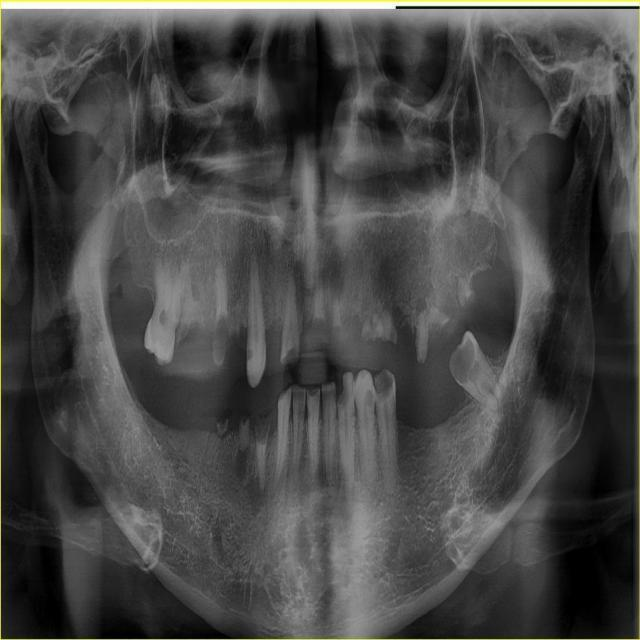Caries: (450, 332, 476, 385), (374, 367, 394, 408), (214, 314, 228, 362), (338, 373, 351, 409), (280, 346, 297, 367), (364, 385, 375, 407), (247, 345, 253, 366)
Missing teeth: (134, 374, 215, 431), (395, 369, 473, 428)
Periapical lesion: (244, 473, 271, 518), (234, 448, 248, 481)
Root Piece: (170, 259, 194, 348), (255, 415, 270, 491), (429, 303, 452, 339), (415, 308, 428, 363), (235, 298, 247, 348), (457, 275, 473, 310), (382, 306, 397, 342), (371, 299, 383, 340), (313, 274, 323, 322), (238, 418, 250, 451), (360, 317, 374, 340), (333, 294, 341, 329), (352, 300, 364, 321), (217, 419, 229, 437), (401, 312, 411, 327)
